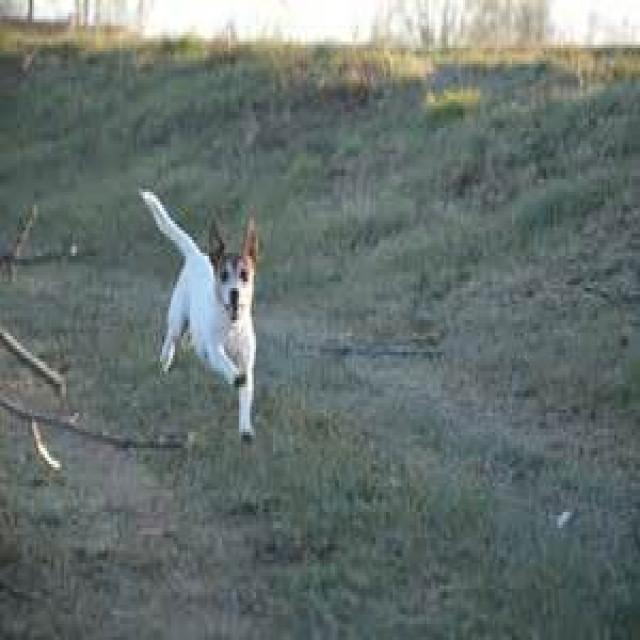KOPEK: (142, 189, 259, 446)
